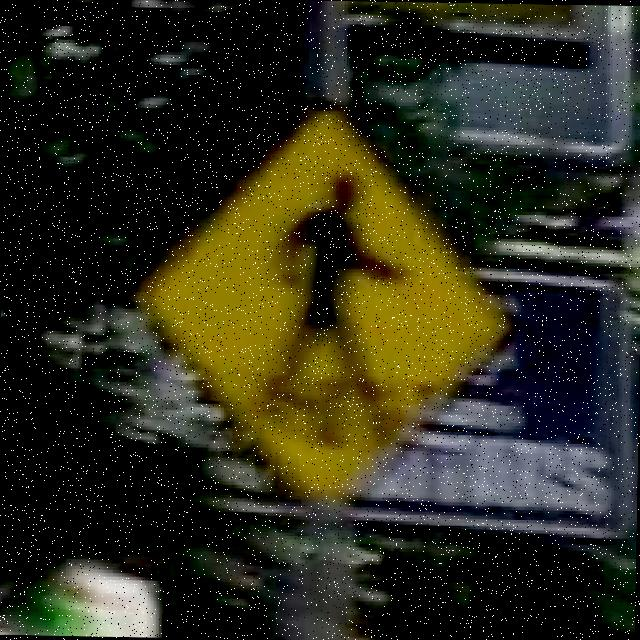Przejscie dla pieszych: (155, 114, 494, 509)
